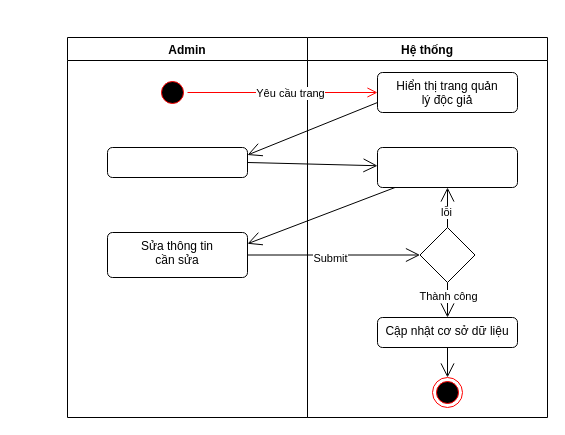
This 565x435 diagram has some shape labels left out. Here are the shapes that lost their labels. From the top down, the centre of each, then its label:
the point at 177,162: Chọn sửa độc giả
the point at 447,167: Hiển thị form theo yêu cầu
the point at 447,254: kiểm tra
